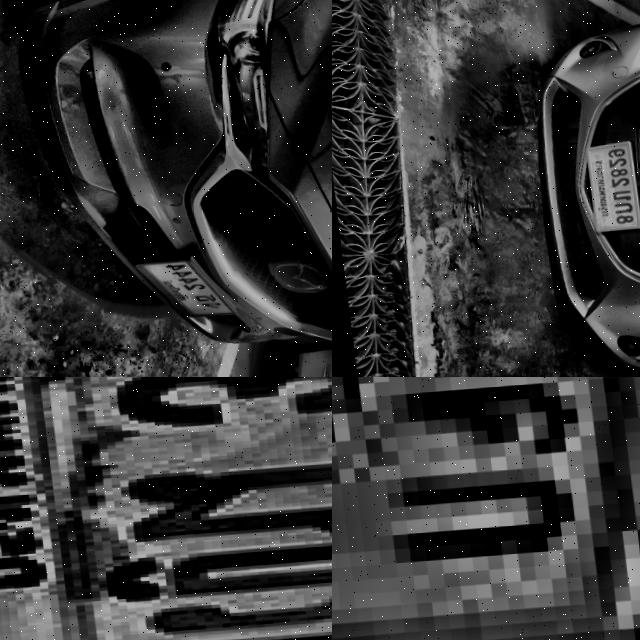license-plate: (0, 377, 332, 640), (332, 377, 640, 640), (126, 255, 230, 325), (574, 145, 635, 236)
